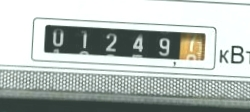0: (49, 26, 64, 47)
1: (76, 28, 89, 49)
2: (101, 30, 118, 53)
4: (130, 32, 144, 52)
7: (184, 32, 198, 52)
9: (156, 35, 170, 57)
screen: (27, 12, 220, 72)
